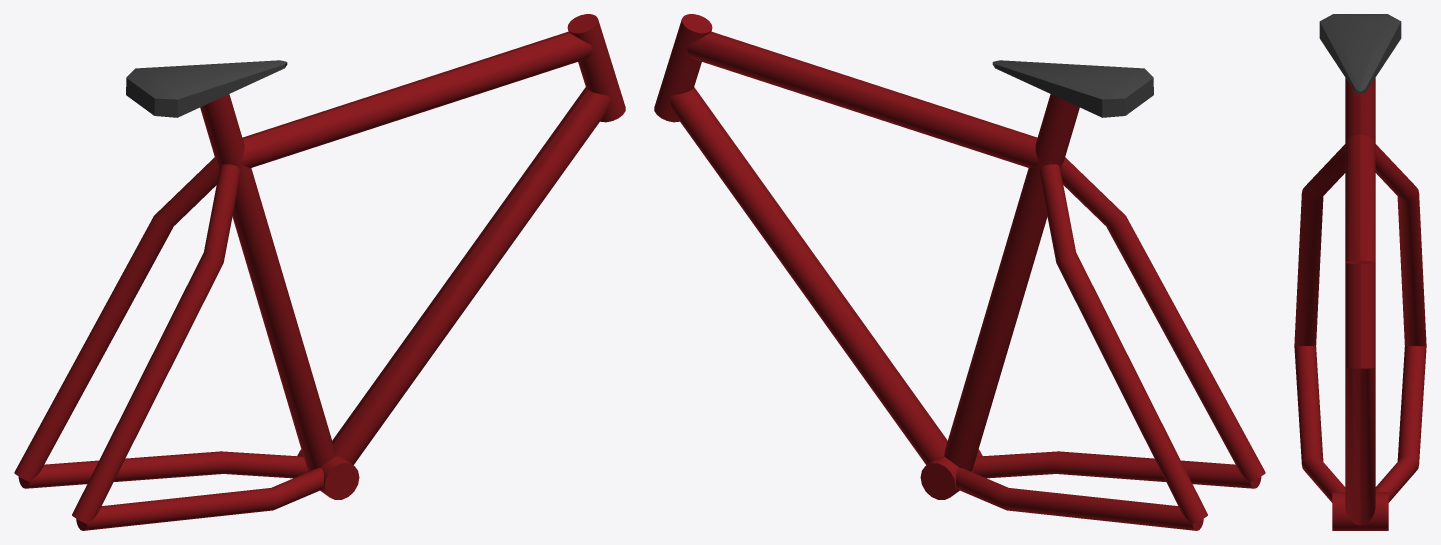
Rendered from Frame.fbx.
3 renders of one model, left to right at view 1: azimuth 30°, elevation 25°; view 2: azimuth 150°, elevation 25°; view 3: azimuth 270°, elevation 25°, orthographic. The views are drawn at different scales.
Parts seen in each view (by area): view 1: Frame; view 2: Frame; view 3: Frame.
Boxes of the visible parts, <box> form: Frame: <box>14,14,625,530</box>; Frame: <box>654,14,1265,530</box>; Frame: <box>1294,14,1426,530</box>.
Bounding box in the file's own units: 92.97 × 69.27 × 19.2.
